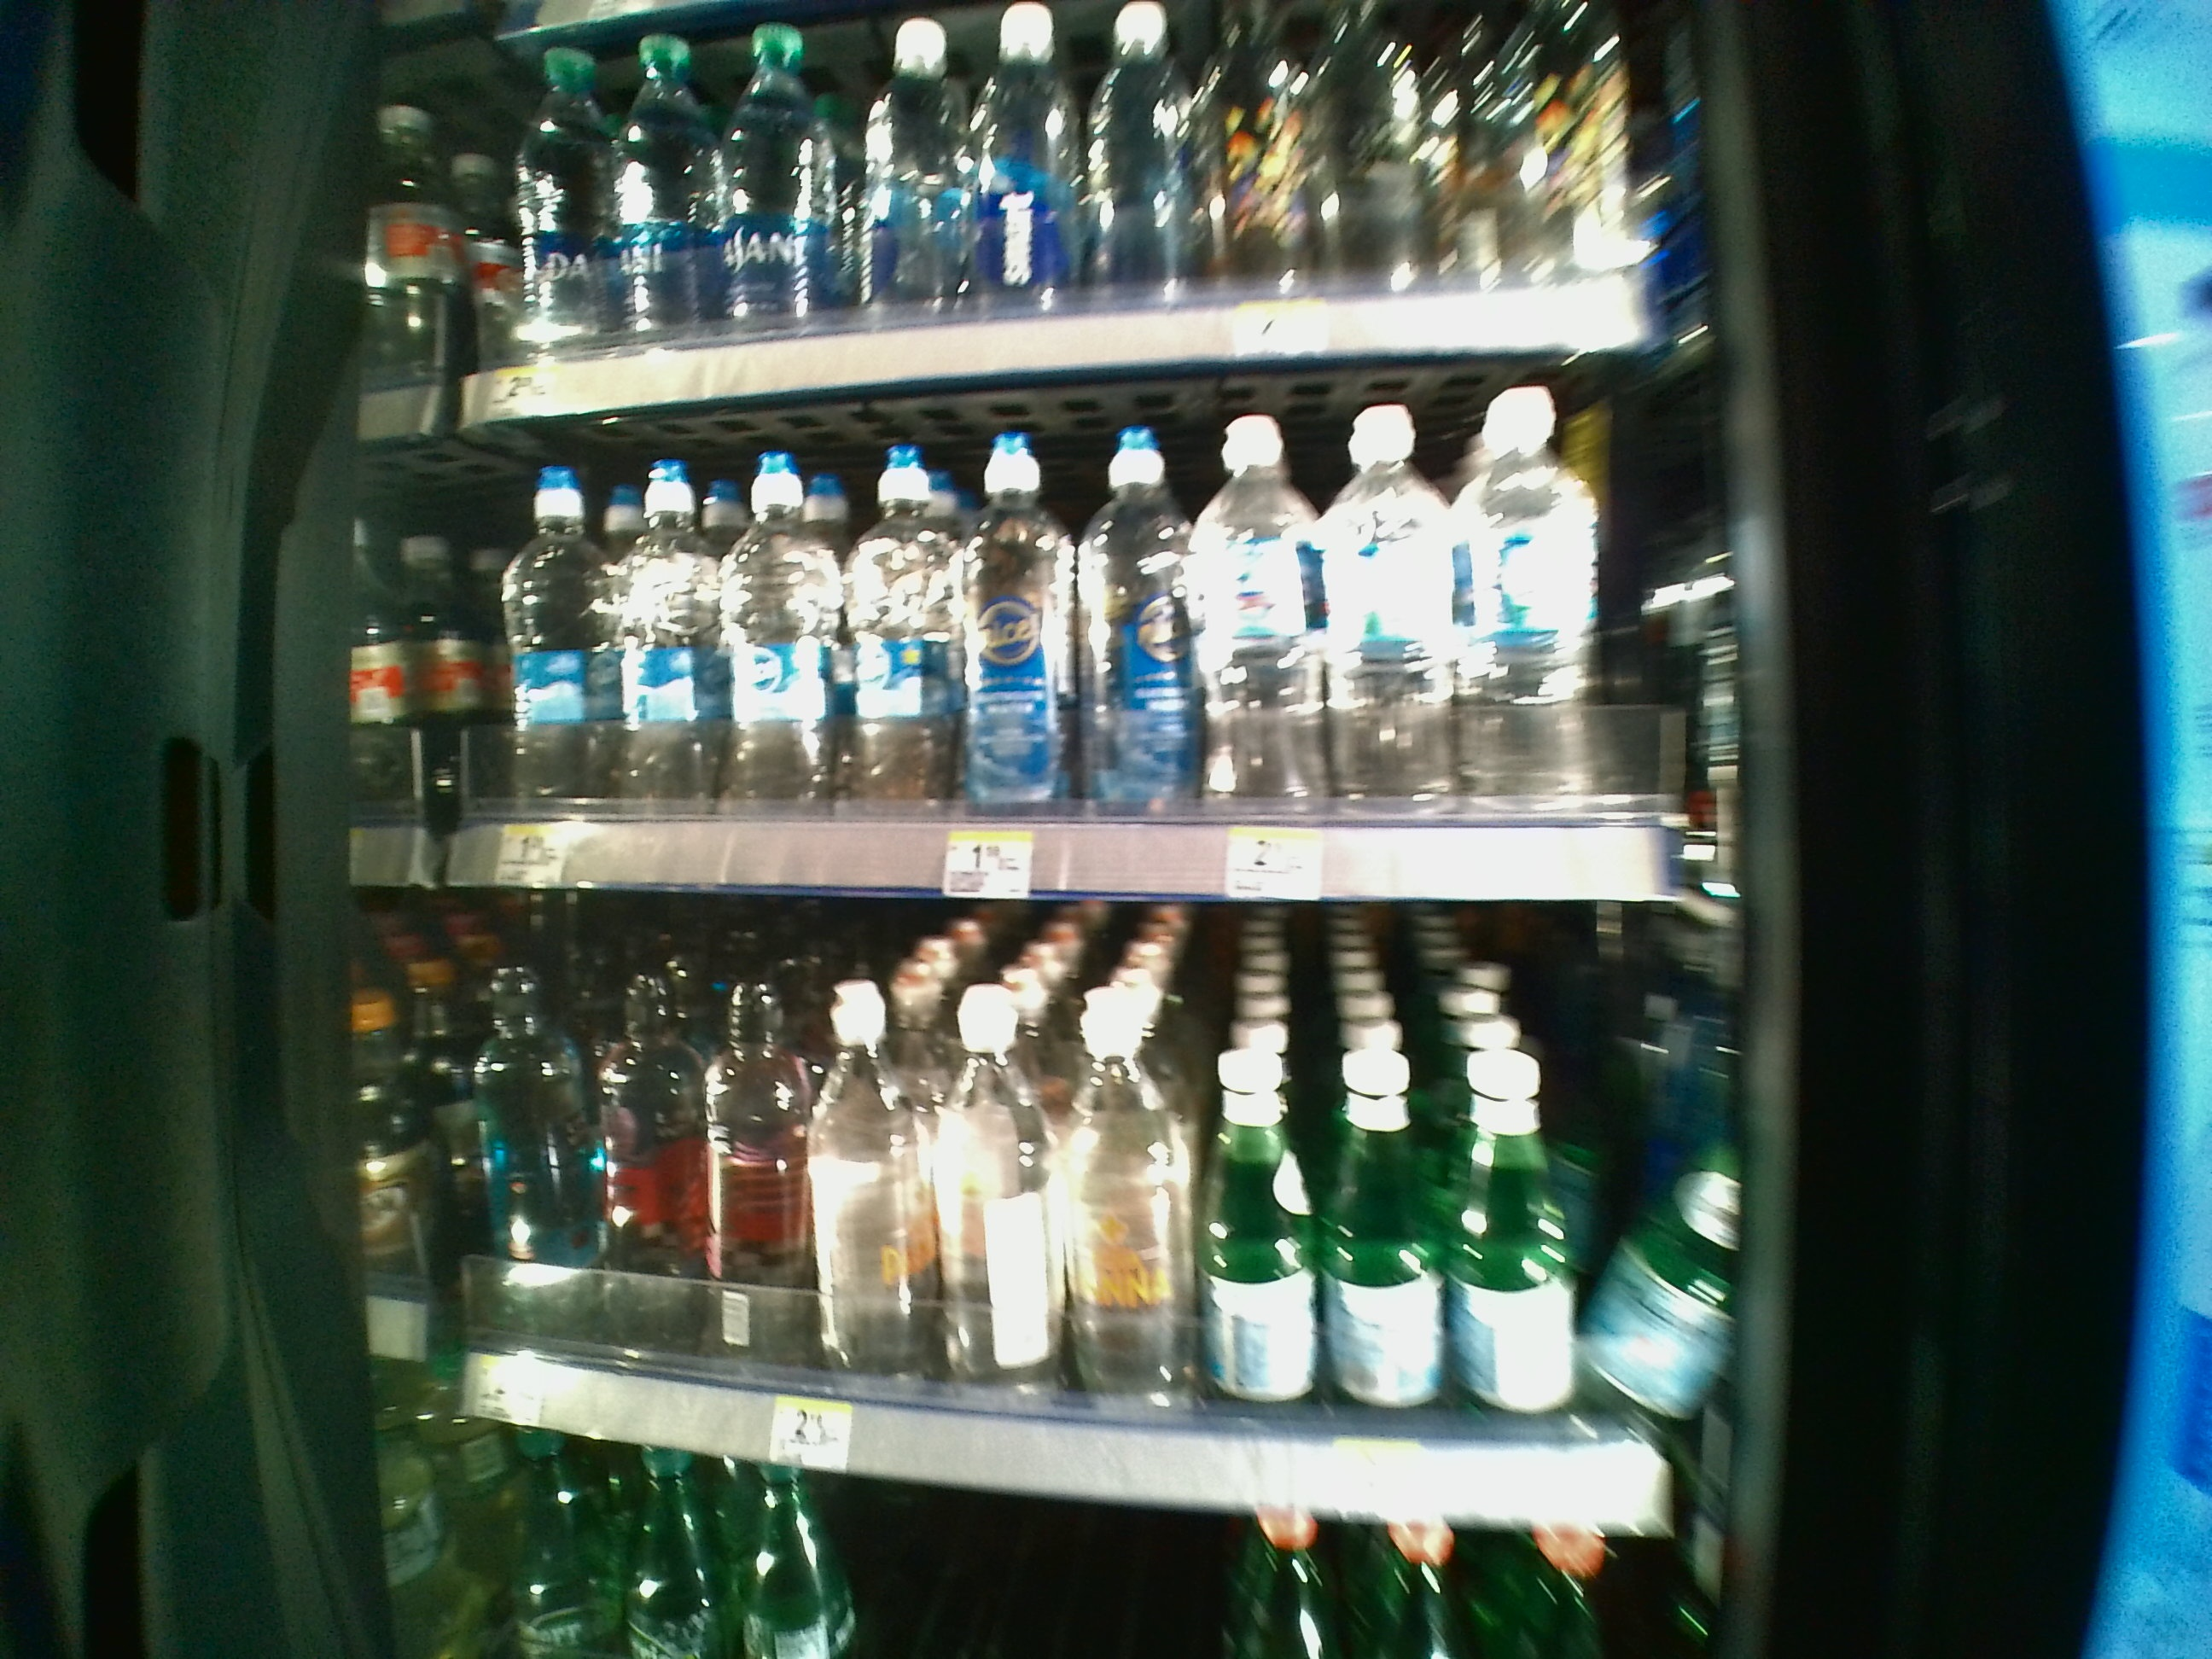Shelf: (420, 903, 1752, 1542), (421, 420, 1752, 903)
